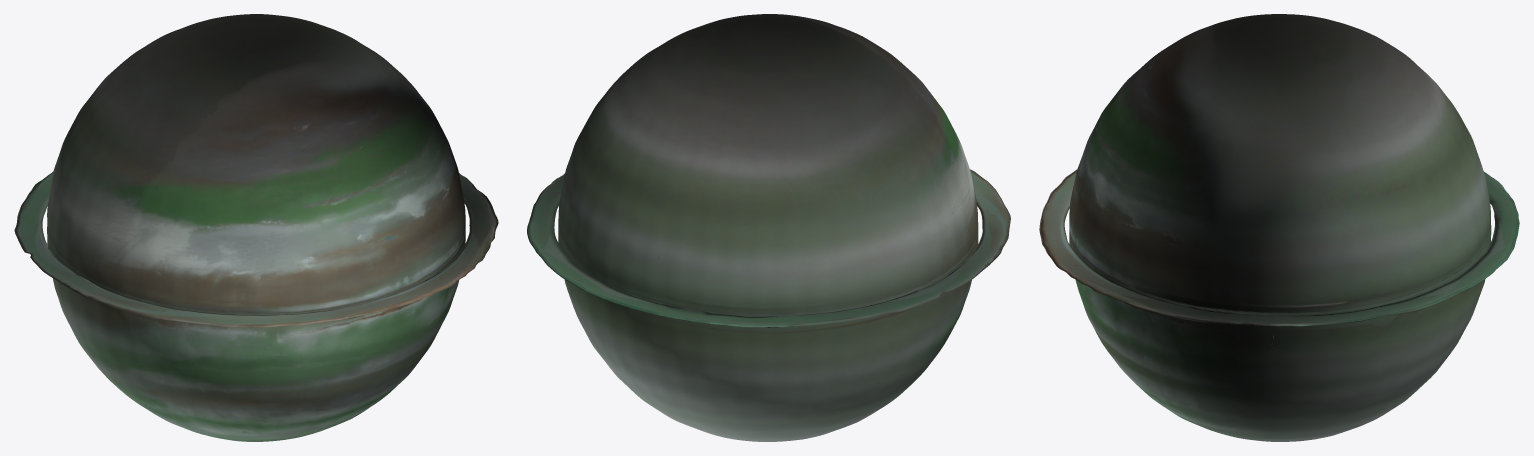
The model's file is NGTS_4_b_0919231725.glb.
The picture shows the model from 3 angles, left to right: view 1: azimuth 30°, elevation 25°; view 2: azimuth 150°, elevation 25°; view 3: azimuth 270°, elevation 25°; orthographic projection.
Size of the model in its own units: 1.99 by 1.79 by 2.
1 material, 1 textured.
